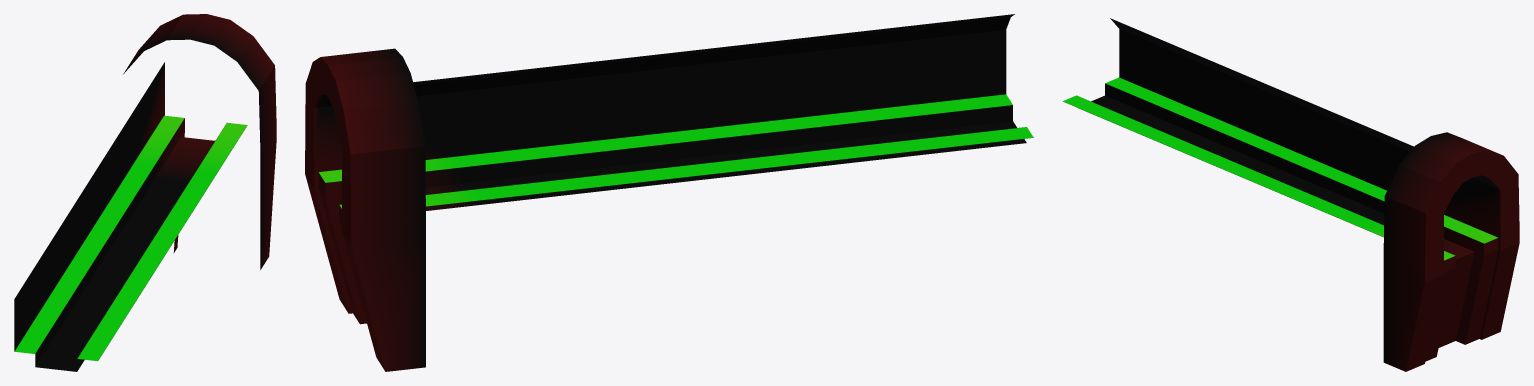
Rendered from canal_4.glb.
3 renders of one model, left to right at view 1: azimuth 30°, elevation 25°; view 2: azimuth 150°, elevation 25°; view 3: azimuth 270°, elevation 25°, orthographic. The views are drawn at different scales.
Parts seen in each view (by area): view 1: Canal_4; view 2: Canal_4; view 3: Canal_4.
Part boxes in pixels (x1,y1,x2,y2): Canal_4: (14, 14, 276, 371); Canal_4: (305, 14, 1033, 371); Canal_4: (1063, 18, 1519, 371).
Size of the model in its own units: 17.06 by 8.5 by 17.06.
